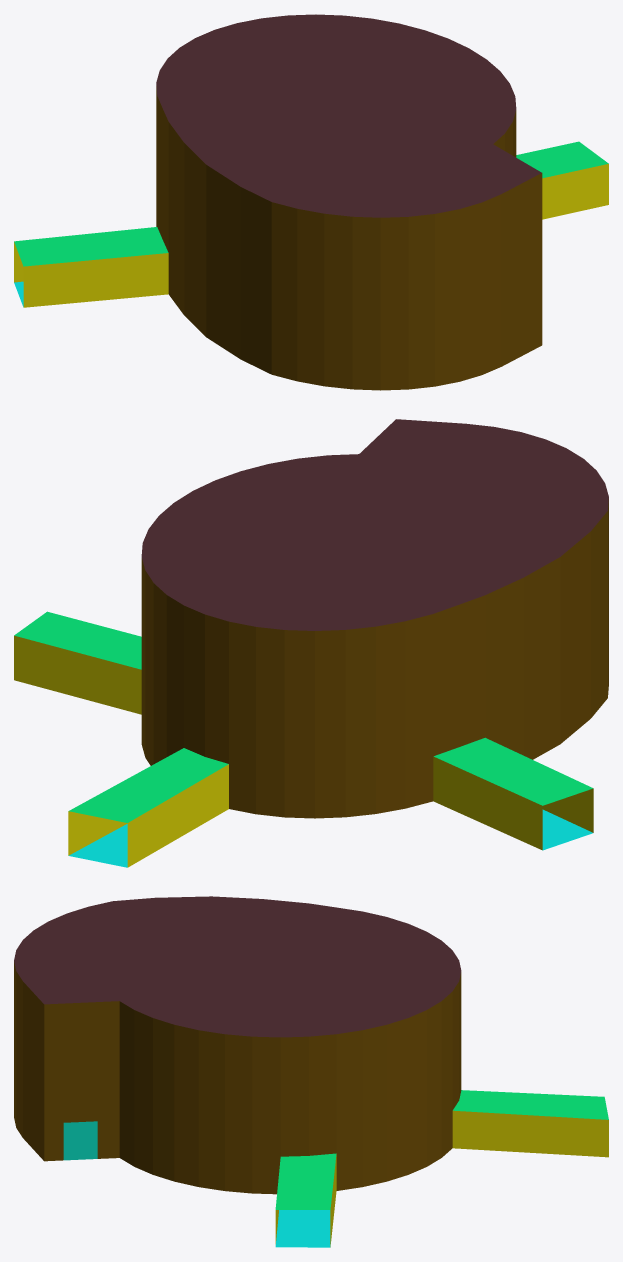
Rendered from Lobby.fbx.
The picture shows the model from 3 angles, top to bottom: view 1: azimuth 30°, elevation 25°; view 2: azimuth 150°, elevation 25°; view 3: azimuth 270°, elevation 25°; orthographic projection. The views are drawn at different scales.
Visible parts, largest first — view 1: Museum_complete_Blockout:Lobby; view 2: Museum_complete_Blockout:Lobby; view 3: Museum_complete_Blockout:Lobby.
Boxes of the visible parts, bbox=[...] form: Museum_complete_Blockout:Lobby: bbox=[14, 14, 608, 390]; Museum_complete_Blockout:Lobby: bbox=[14, 419, 608, 867]; Museum_complete_Blockout:Lobby: bbox=[14, 896, 608, 1247].
Size of the model in its own units: 14249 by 4316 by 14833.
